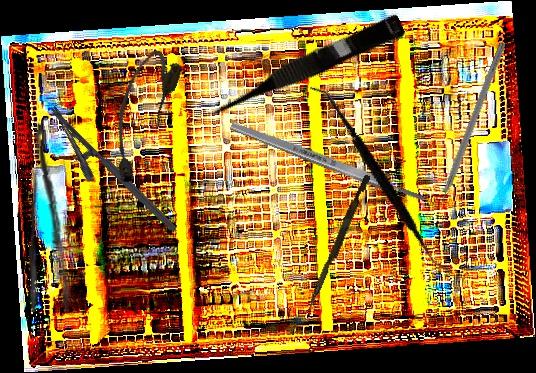Cannula: (95, 45, 186, 188)
Chopper: (423, 37, 507, 220)
Dressing Forceps: (26, 122, 78, 314)
Micro Scissor: (200, 8, 407, 125)
Needle Holder: (33, 104, 178, 250)
Pusher: (306, 172, 371, 314)
Scalpel Handle: (229, 119, 426, 205)
Spatula Surgical: (263, 84, 497, 275)
